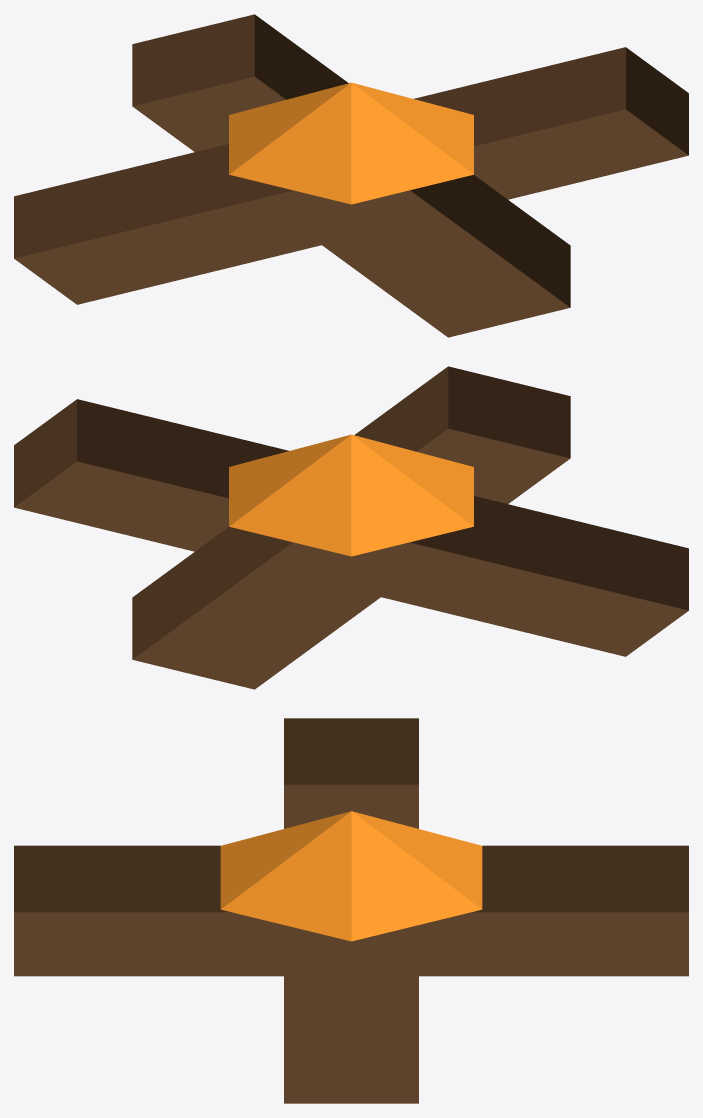
Rendered from bonfire.glb.
The picture shows the model from 3 angles, top to bottom: view 1: azimuth 30°, elevation 25°; view 2: azimuth 150°, elevation 25°; view 3: azimuth 270°, elevation 25°; orthographic projection. The views are drawn at different scales.
Visible parts, largest first — view 1: bonfire; view 2: bonfire; view 3: bonfire.
Boxes of the visible parts, x1=… form: bonfire: x1=14, y1=14, x2=688, y2=337; bonfire: x1=14, y1=366, x2=688, y2=689; bonfire: x1=14, y1=718, x2=688, y2=1103.
Bounding box in the file's own units: 0.406 × 0.079 × 0.363.
